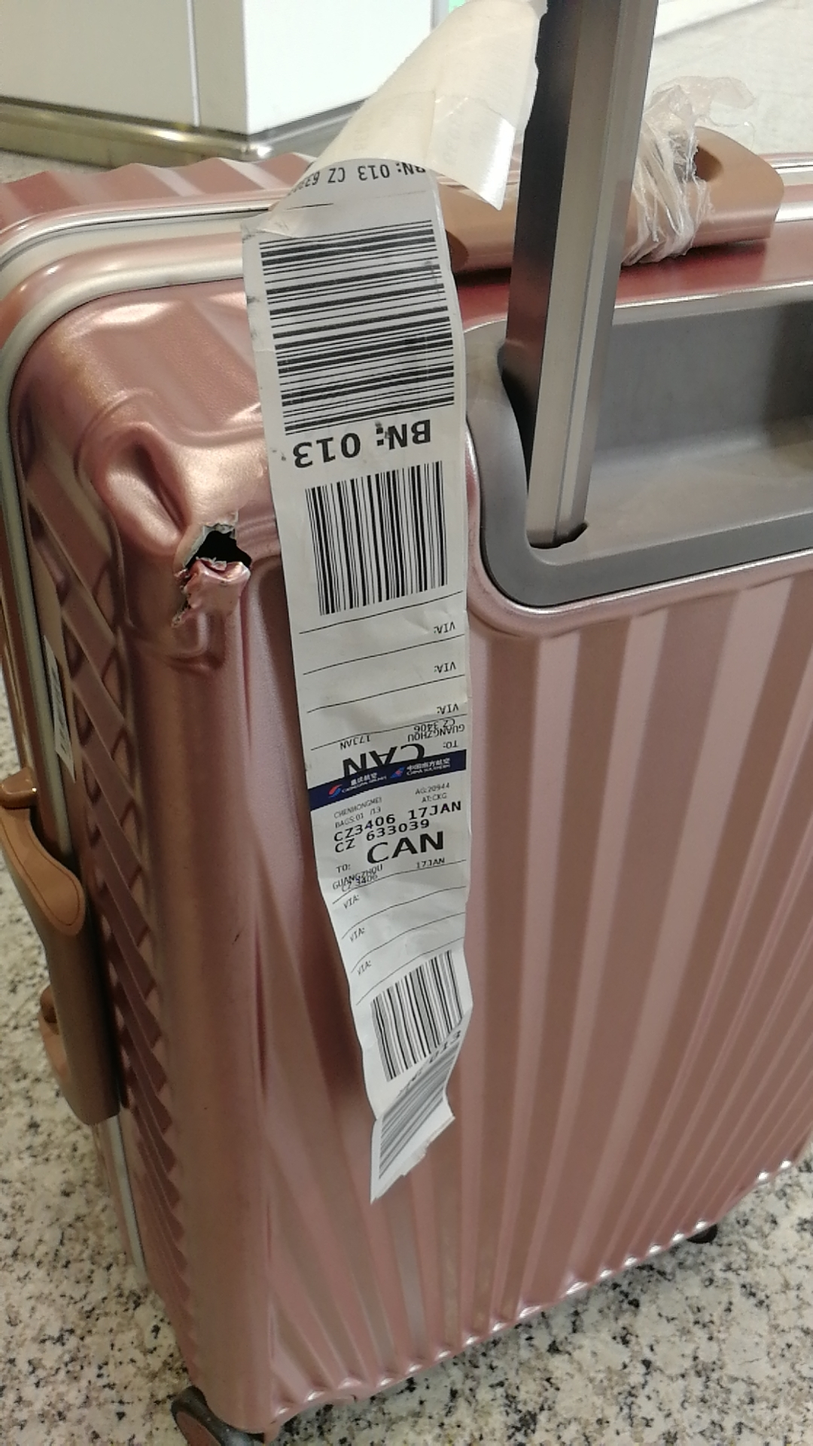hollow: (184, 522, 253, 574)
rupture: (90, 420, 196, 557)
